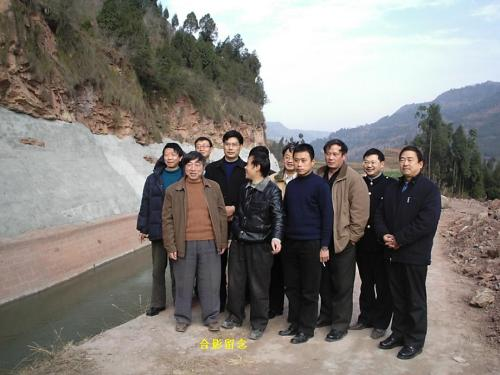boots: (396, 343, 422, 358), (379, 334, 403, 349), (290, 330, 314, 344), (325, 327, 347, 341), (221, 316, 242, 328), (278, 324, 298, 336), (248, 326, 264, 339), (348, 321, 371, 330), (370, 327, 386, 339), (146, 305, 165, 315), (268, 308, 283, 318), (175, 321, 188, 332), (316, 318, 331, 327), (208, 320, 220, 330)
person: (373, 145, 441, 358), (221, 145, 284, 340), (161, 150, 228, 332), (315, 138, 371, 341), (278, 142, 334, 343), (349, 147, 399, 338), (136, 142, 186, 316), (204, 129, 248, 314), (267, 143, 299, 318), (193, 137, 213, 171)
